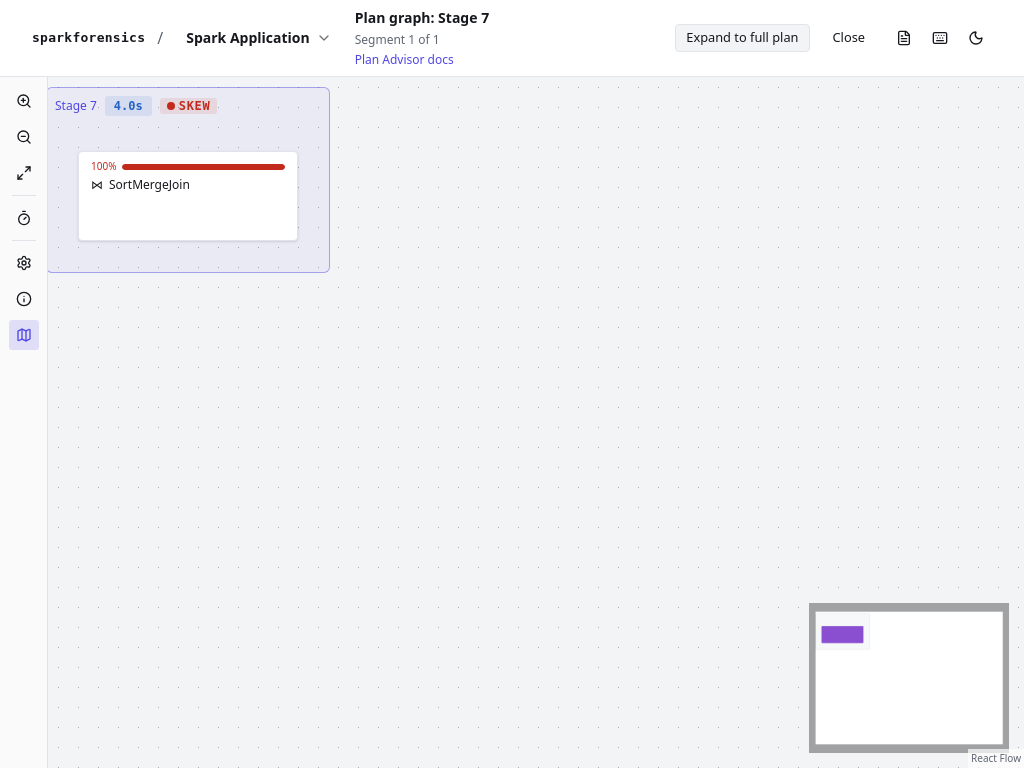
stage panel in the plan graph › a stage title opens the same panel
Click the button "Stage 7": (76, 106) top-left (55, 98), bottom-right (97, 114)
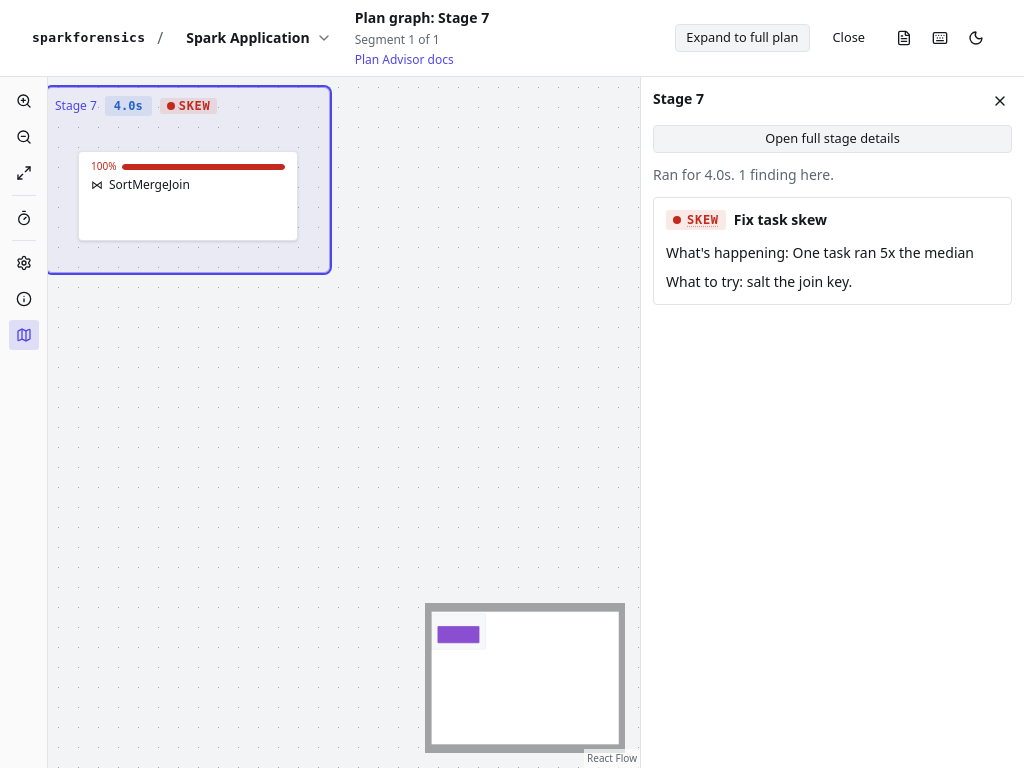
Expected: the heading "Stage 7" is shown, top-left (653, 89), bottom-right (704, 109)
Expected: the dialog with test id "plan-stage-detail" shows "1 finding here.", top-left (653, 165), bottom-right (834, 184)
